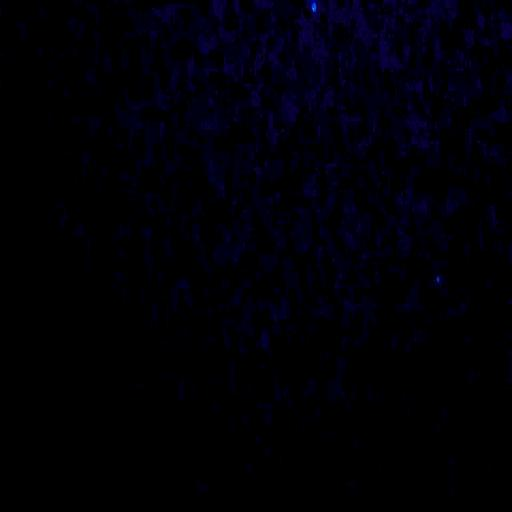object-detection-project: (312, 2, 316, 12)
